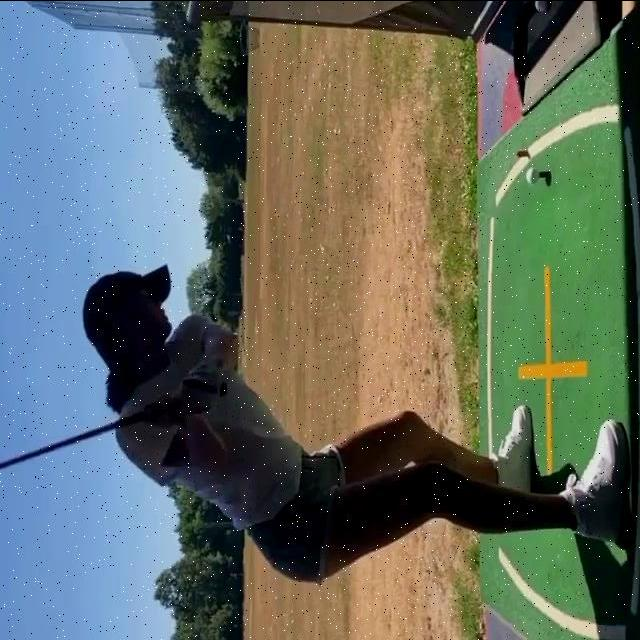golf ball: (526, 165, 541, 184), (535, 0, 549, 11)
golf club-handle: (1, 379, 229, 467)
